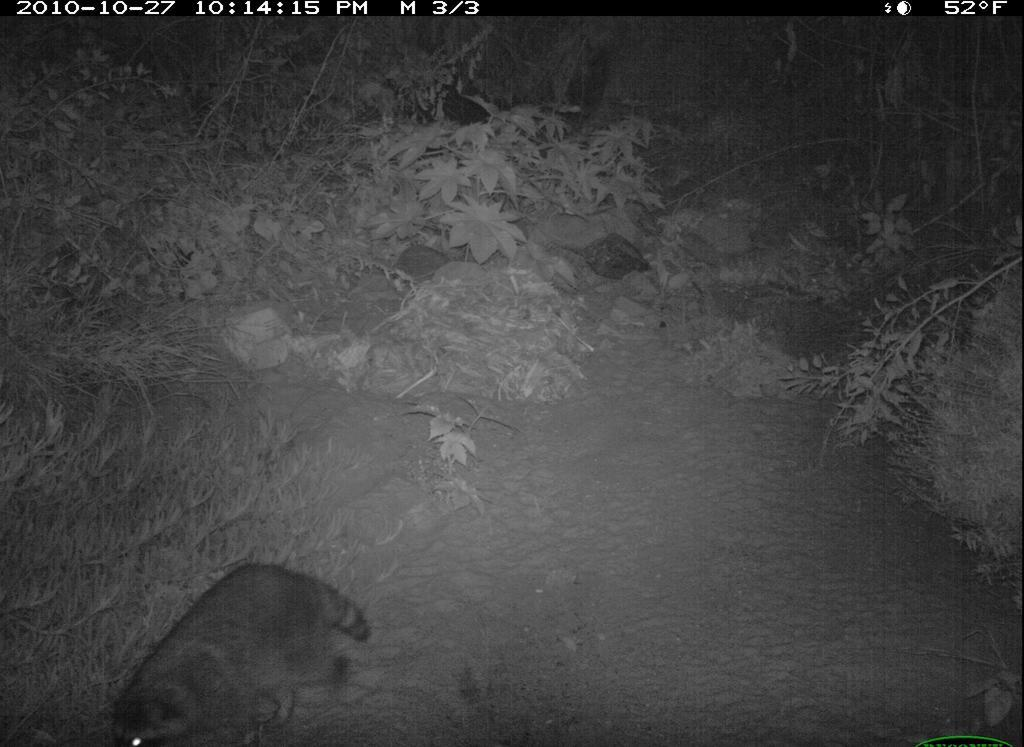raccoon: (95, 539, 378, 744)
